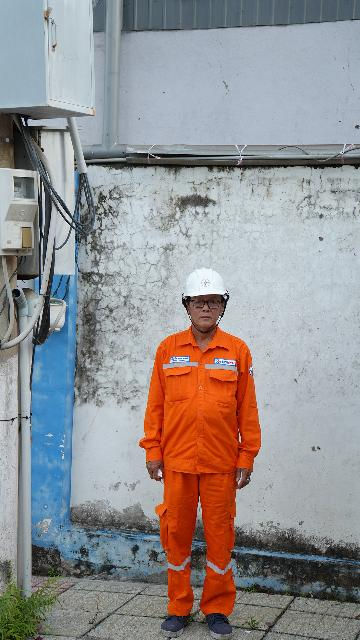helmet: (167, 265, 247, 312)
shoes: (142, 609, 202, 640), (197, 605, 237, 640)
